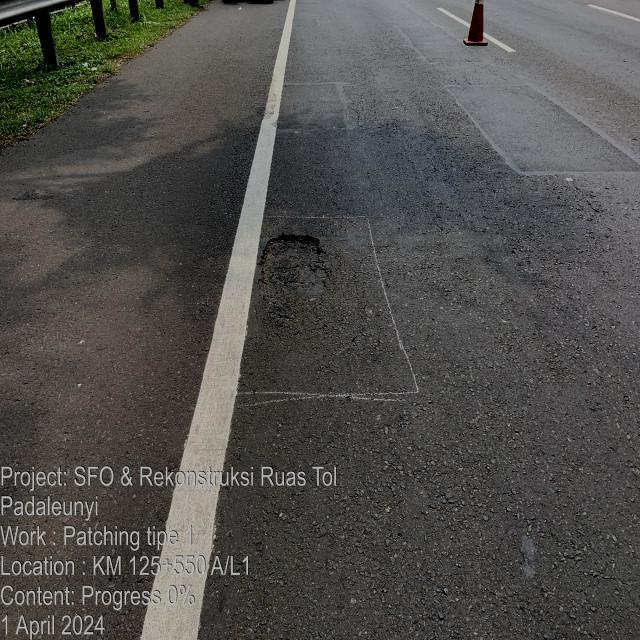Buraco: (255, 231, 335, 304)
